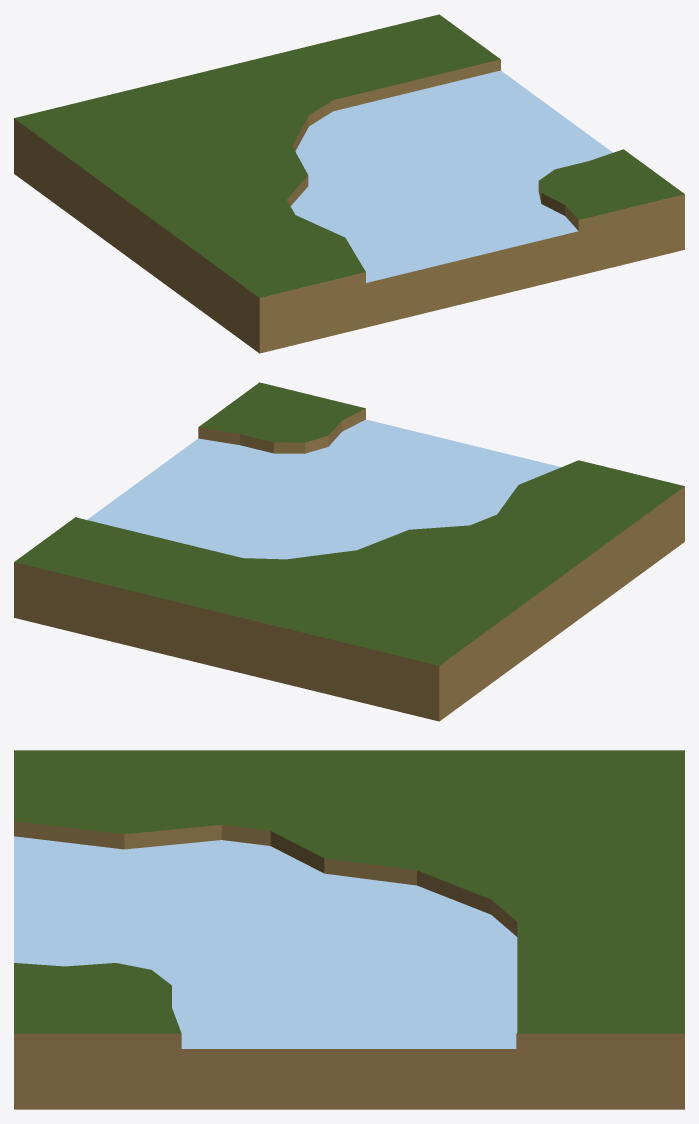
The model's file is Terrain_Tile_Grass_Dirt_River_Bend_02.fbx.
The picture shows the model from 3 angles, top to bottom: view 1: azimuth 30°, elevation 25°; view 2: azimuth 150°, elevation 25°; view 3: azimuth 270°, elevation 25°; orthographic projection. The views are drawn at different scales.
Parts seen in each view (by area): view 1: Model; view 2: Model; view 3: Model.
Part boxes in pixels (<box>): Model: <box>14,14,684,353</box>; Model: <box>14,382,684,721</box>; Model: <box>14,750,684,1109</box>.
Bounding box in the file's own units: 2000 × 250 × 2000.
